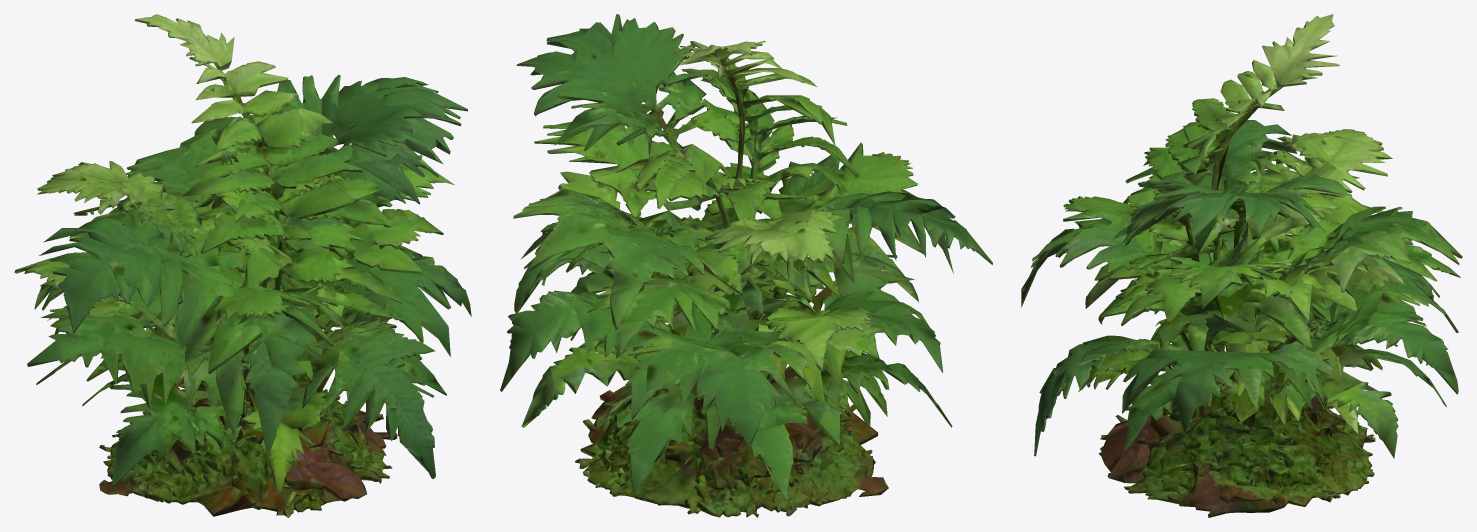
File: fern.glb
3 renders of one model, left to right at view 1: azimuth 30°, elevation 25°; view 2: azimuth 150°, elevation 25°; view 3: azimuth 270°, elevation 25°, orthographic. The views are drawn at different scales.
Visible parts, largest first — view 1: geometry_0; view 2: geometry_0; view 3: geometry_0.
Part boxes in pixels (x1,y1,x2,y2): geometry_0: (14,14,471,517); geometry_0: (500,14,992,517); geometry_0: (1021,14,1462,517).
Bounding box in the file's own units: 0.5003 × 0.4995 × 0.4854.
1 material, 1 textured.
